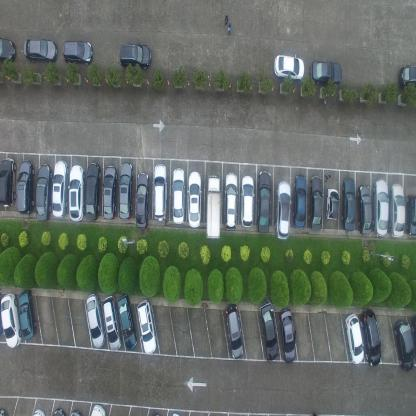car: (360, 308, 382, 366), (116, 294, 138, 350), (85, 292, 106, 350), (136, 298, 157, 354), (1, 292, 22, 348), (102, 294, 122, 350), (225, 302, 244, 359), (260, 301, 278, 361), (206, 172, 222, 239), (256, 168, 272, 235), (344, 312, 364, 364), (394, 320, 414, 372), (17, 288, 37, 340), (84, 161, 101, 221), (36, 162, 52, 223), (117, 160, 133, 220), (273, 52, 305, 82), (52, 158, 68, 218), (118, 42, 152, 70), (17, 159, 34, 215), (152, 163, 168, 222), (275, 181, 291, 240), (373, 177, 389, 236), (62, 38, 94, 67), (23, 38, 58, 64), (280, 307, 296, 362), (69, 164, 84, 222), (223, 171, 237, 231), (0, 156, 16, 208), (171, 167, 185, 226), (187, 170, 201, 229), (390, 183, 405, 238), (102, 165, 117, 220), (135, 172, 149, 230), (311, 59, 342, 85), (293, 173, 307, 228), (341, 177, 355, 232), (309, 176, 323, 230), (357, 184, 372, 234), (241, 174, 254, 227), (325, 187, 339, 220), (405, 193, 416, 235), (398, 64, 416, 89), (0, 36, 16, 63), (90, 403, 106, 415), (52, 405, 66, 415)
